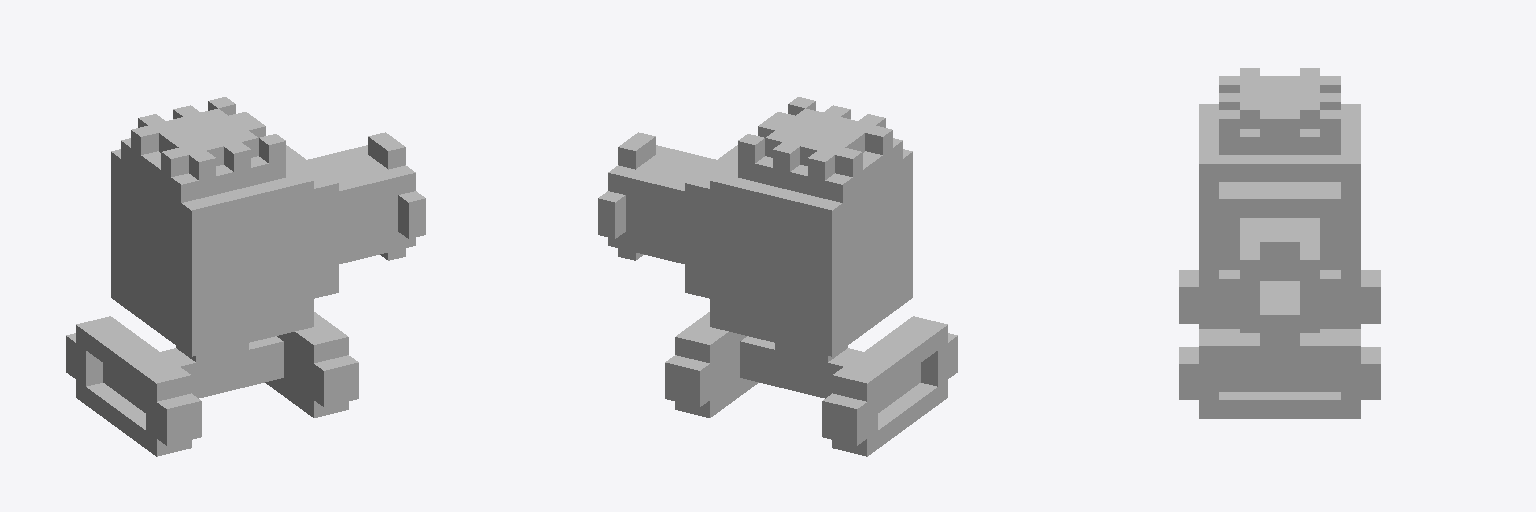
The model's file is Main Character.obj.
3 renders of one model, left to right at view 1: azimuth 30°, elevation 25°; view 2: azimuth 150°, elevation 25°; view 3: azimuth 270°, elevation 25°, orthographic.
Visible parts, largest first — view 1: object 1; view 2: object 1; view 3: object 1.
Part boxes in pixels (x1,y1,x2,y2): object 1: (66,97,425,456); object 1: (598,97,957,456); object 1: (1179,68,1380,418).
Size of the model in its own units: 1.6 by 1.5 by 1.